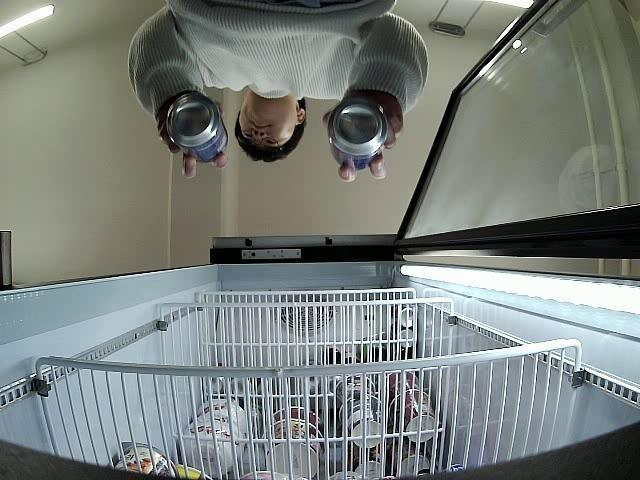14_welchsGrape: (328, 98, 388, 169), (167, 96, 227, 160)
